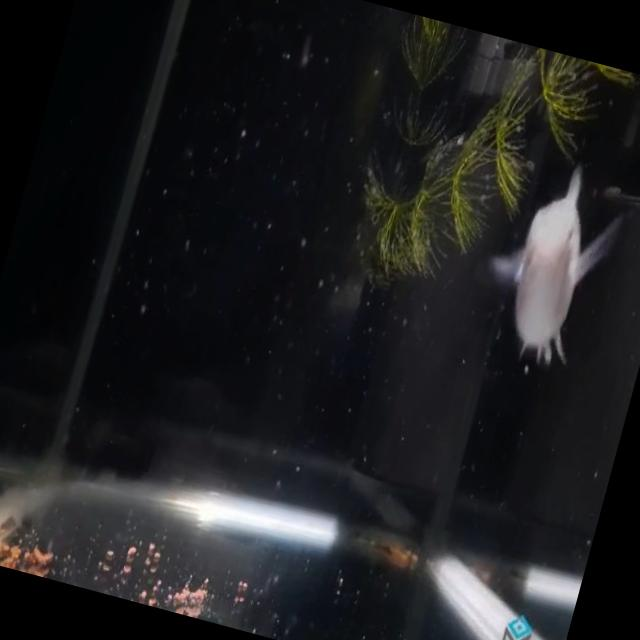PlatyFish: (443, 120, 640, 420)
